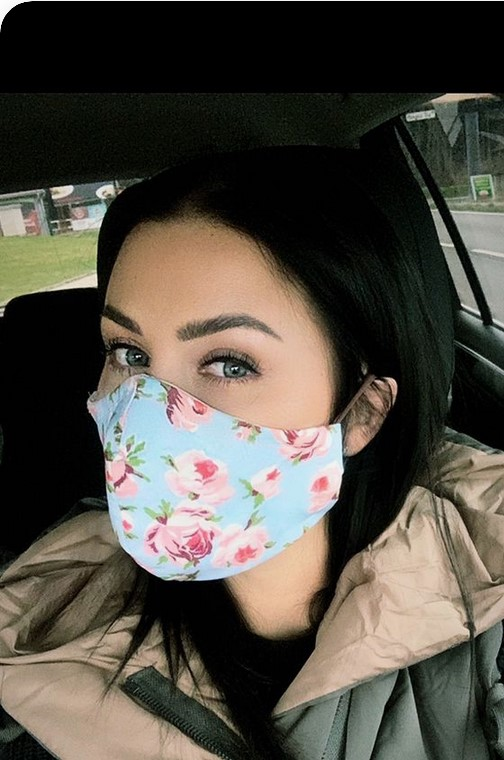face_with_mask: (84, 147, 401, 589)
